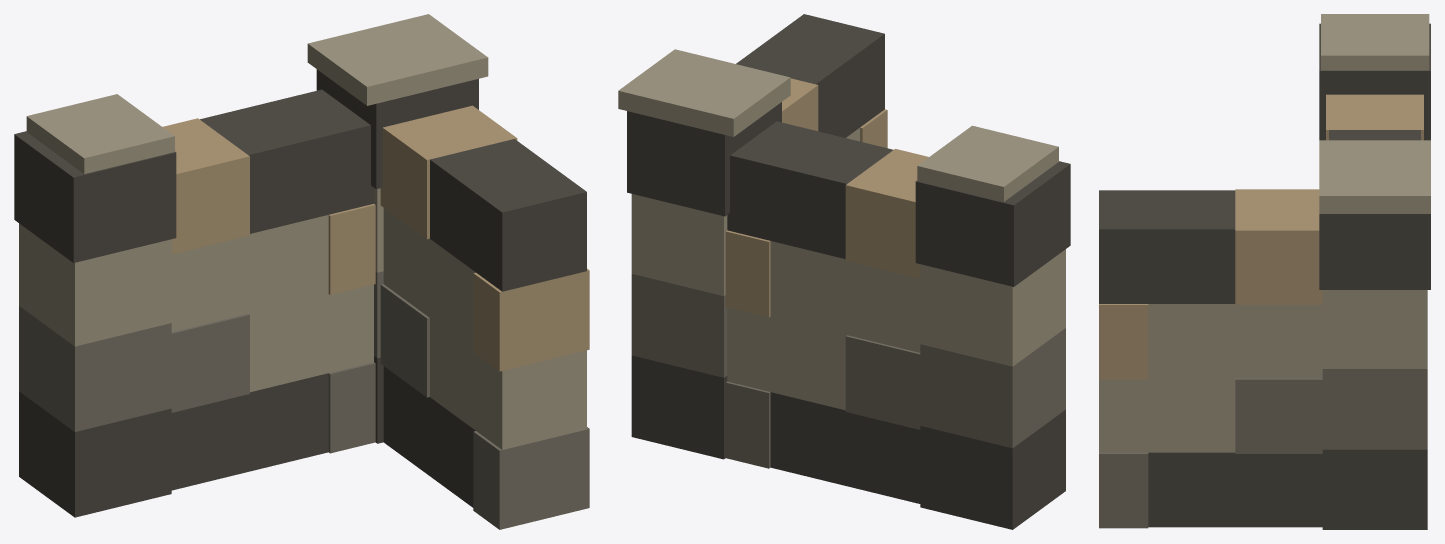
File: TW_STONE_CORNER_R90_B_LOD0.glb
3 views of the same model, side by side, from view 1: azimuth 30°, elevation 25°; view 2: azimuth 150°, elevation 25°; view 3: azimuth 270°, elevation 25° (orthographic). The views are drawn at different scales.
Visible parts, largest first — view 1: TW_STONE_CORNER_R90_B_LOD0; view 2: TW_STONE_CORNER_R90_B_LOD0; view 3: TW_STONE_CORNER_R90_B_LOD0.
Boxes of the visible parts, <box> form: TW_STONE_CORNER_R90_B_LOD0: <box>14,14,589,529</box>; TW_STONE_CORNER_R90_B_LOD0: <box>618,14,1070,529</box>; TW_STONE_CORNER_R90_B_LOD0: <box>1099,14,1430,529</box>.
Size of the model in its own units: 1.37 by 1.14 by 1.01.
1 material, 1 textured.
